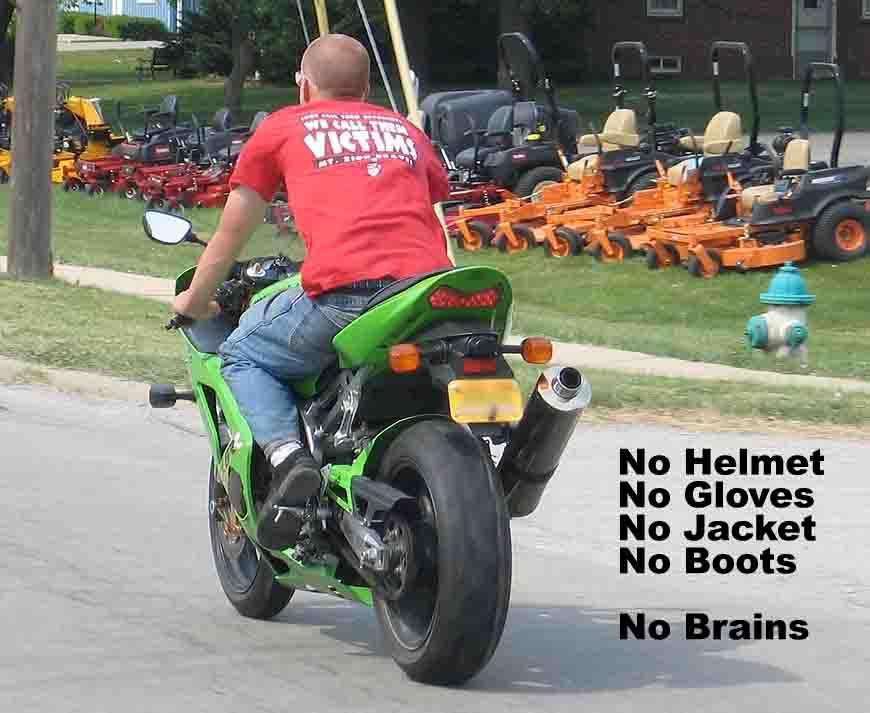nohelmet: (293, 30, 375, 115)
